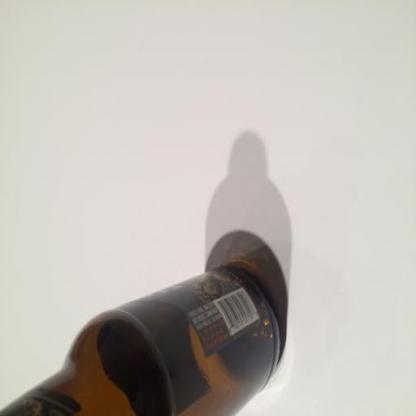trash: (1, 264, 284, 413)
